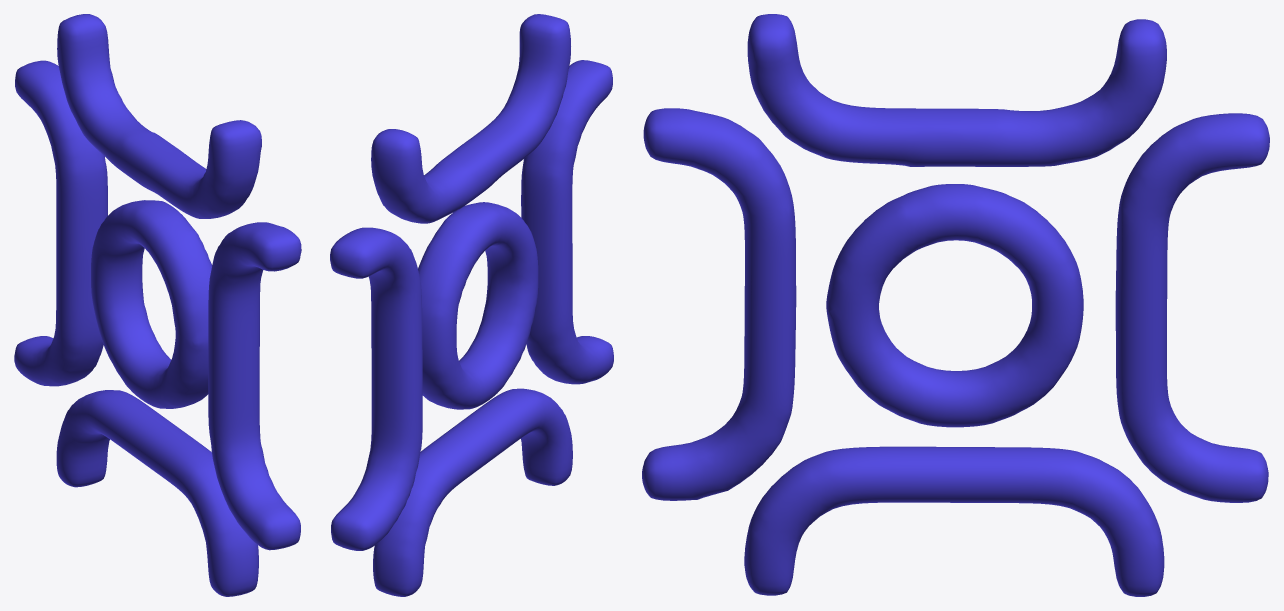
3 views of the same model, side by side, from view 1: azimuth 30°, elevation 25°; view 2: azimuth 150°, elevation 25°; view 3: azimuth 270°, elevation 25° (orthographic). The views are drawn at different scales.
Visible parts, largest first — view 1: Mesh_0; view 2: Mesh_0; view 3: Mesh_0.
Boxes of the visible parts, box(x1,y1,x2,y2) form: Mesh_0: box(14, 14, 301, 596); Mesh_0: box(330, 14, 613, 596); Mesh_0: box(642, 14, 1269, 596).
Size of the model in its own units: 0.4259 by 3.99 by 3.96.
